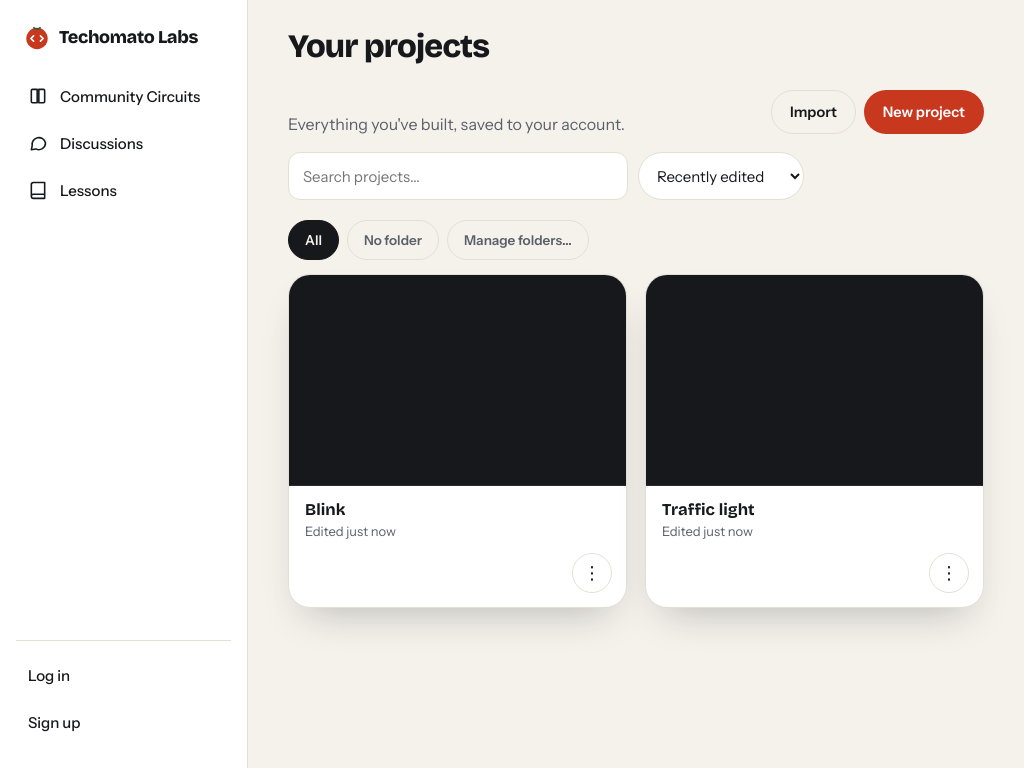
Test case: ProjectsPage › filters by name as you type
Expected: the link "Blink" is shown, left=305, top=500, right=345, bottom=519
Type "traffic" into the field with placeholder "Search projects…" at (458, 176), box left=288, top=152, right=628, bottom=200
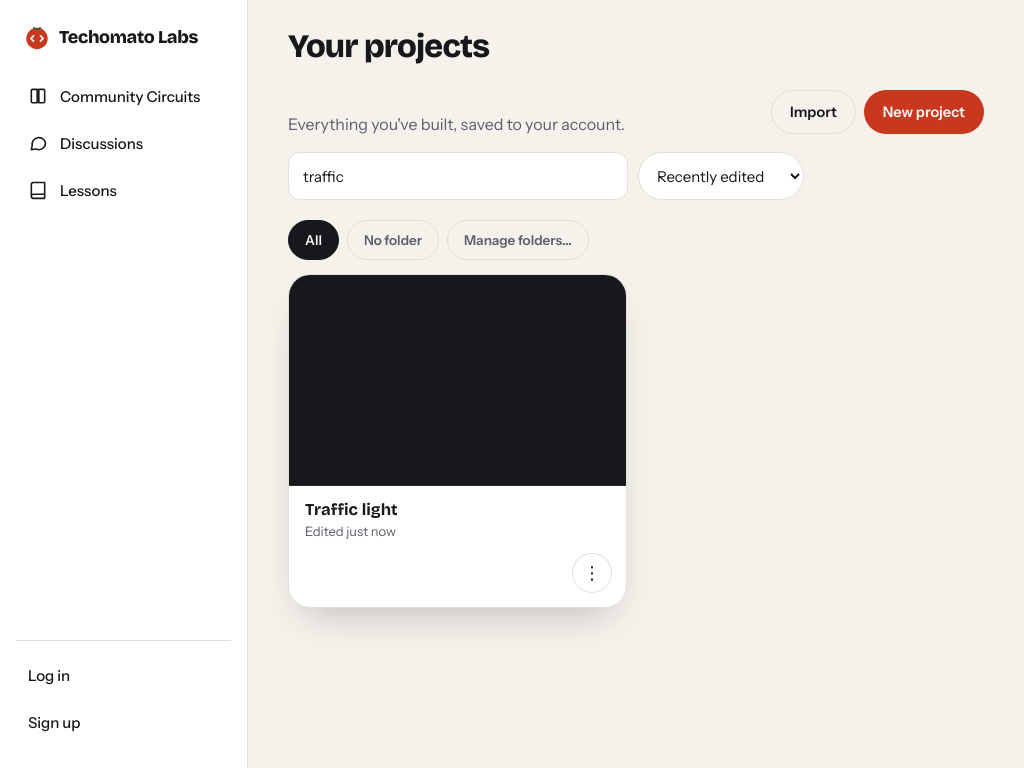
Expected: the link "Traffic light" is shown, left=305, top=500, right=398, bottom=519
Result: the link "Blink" is gone
